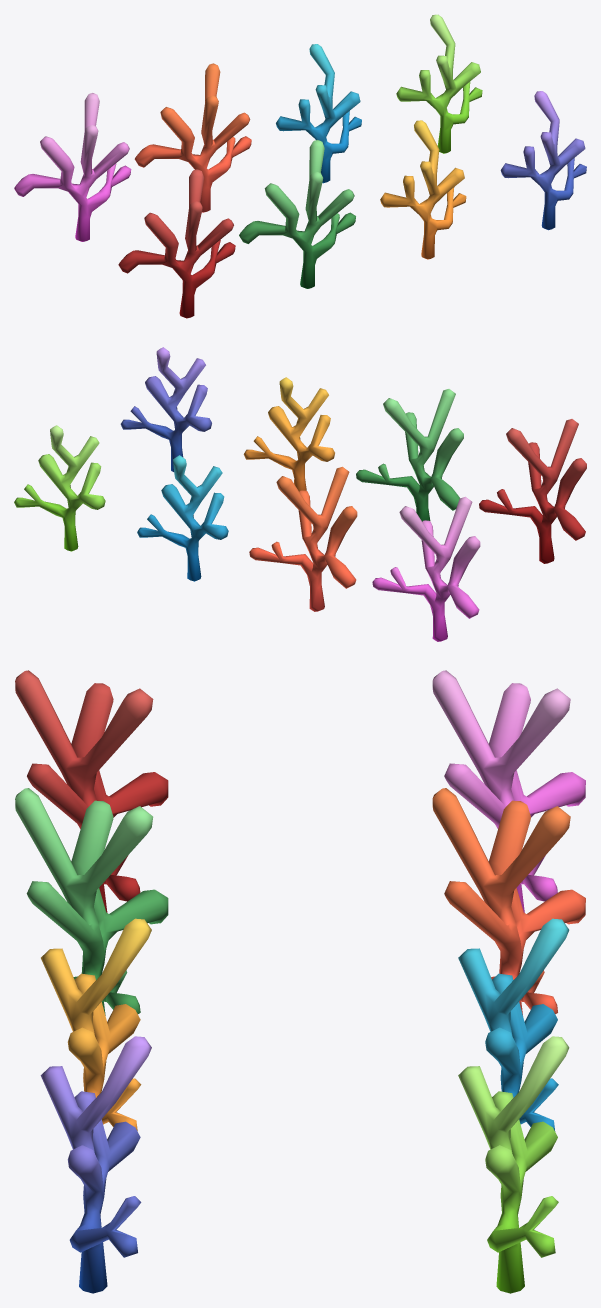
The model's file is CoralReefSet3.fbx.
3 renders of one model, top to bottom at view 1: azimuth 30°, elevation 25°; view 2: azimuth 150°, elevation 25°; view 3: azimuth 270°, elevation 25°, orthographic. The views are drawn at different scales.
Visible parts, largest first — view 1: C_CoralReef.010, C_CoralReef.006, C_CoralReef, C_CoralReef.008, C_CoralReef.005, C_CoralReef.001, C_CoralReef.009, C_CoralReef.007; view 2: C_CoralReef.006, C_CoralReef.010, C_CoralReef.008, C_CoralReef, C_CoralReef.007, C_CoralReef.009, C_CoralReef.005, C_CoralReef.001; view 3: C_CoralReef.008, C_CoralReef, C_CoralReef.006, C_CoralReef.010, C_CoralReef.005, C_CoralReef.009, C_CoralReef.001, C_CoralReef.007.
Boxes of the visible parts, bbox=[...] form: C_CoralReef.010: bbox=[14, 93, 131, 241]; C_CoralReef.006: bbox=[118, 169, 235, 318]; C_CoralReef: bbox=[239, 140, 355, 288]; C_CoralReef.008: bbox=[134, 63, 251, 212]; C_CoralReef.005: bbox=[500, 91, 586, 230]; C_CoralReef.001: bbox=[380, 120, 466, 259]; C_CoralReef.009: bbox=[396, 14, 482, 153]; C_CoralReef.007: bbox=[276, 44, 361, 183]; C_CoralReef.006: bbox=[479, 419, 586, 563]; C_CoralReef.010: bbox=[372, 496, 480, 641]; C_CoralReef.008: bbox=[249, 466, 357, 611]; C_CoralReef: bbox=[356, 389, 463, 521]; C_CoralReef.007: bbox=[137, 455, 228, 581]; C_CoralReef.009: bbox=[14, 425, 105, 551]; C_CoralReef.005: bbox=[120, 347, 211, 471]; C_CoralReef.001: bbox=[243, 377, 334, 491]; C_CoralReef.008: bbox=[432, 788, 585, 1014]; C_CoralReef: bbox=[15, 788, 168, 1015]; C_CoralReef.006: bbox=[15, 670, 168, 912]; C_CoralReef.010: bbox=[432, 670, 585, 912]; C_CoralReef.005: bbox=[40, 1036, 151, 1293]; C_CoralReef.009: bbox=[458, 1036, 569, 1293]; C_CoralReef.001: bbox=[41, 918, 151, 1130]; C_CoralReef.007: bbox=[458, 918, 569, 1131].
Bounding box in the file's own units: 763 × 214 × 410.
1 material, 1 textured.
